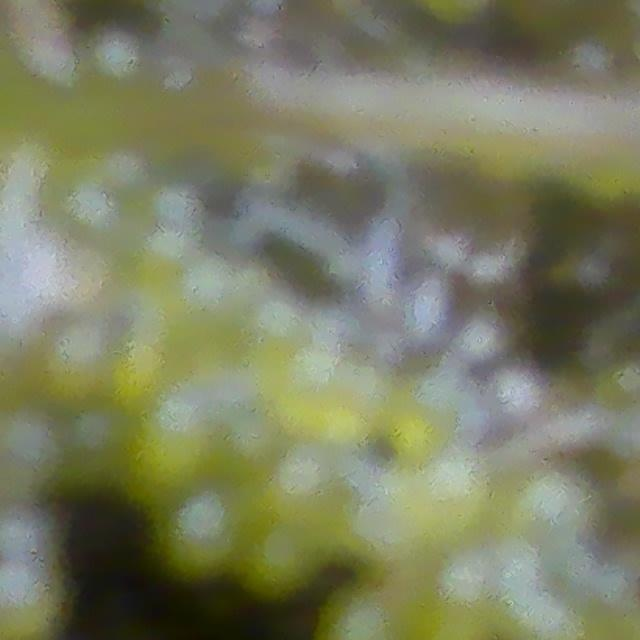SeaGrape: (503, 461, 597, 550), (160, 491, 250, 581), (241, 521, 321, 599), (62, 401, 133, 478)
